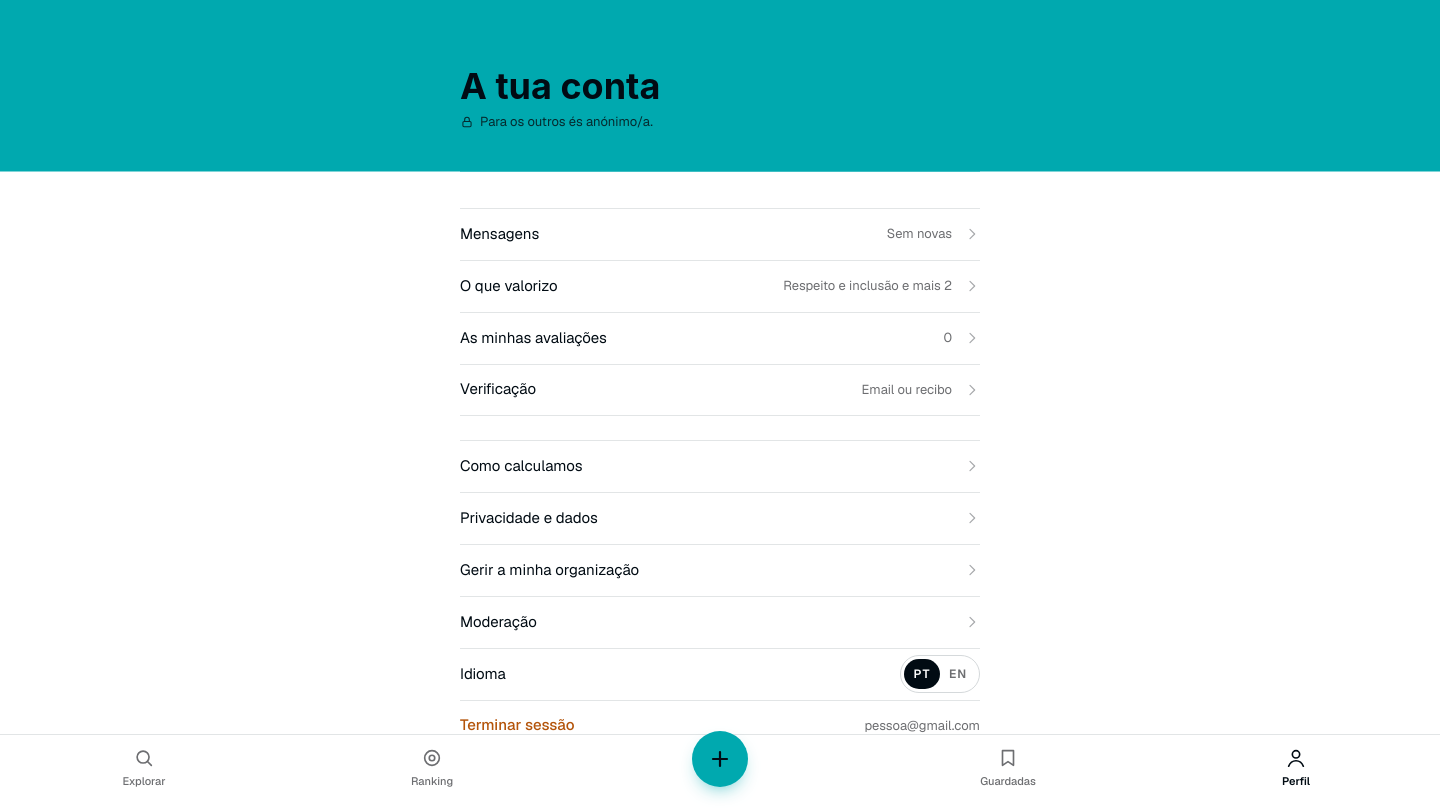
Perfil (mobile) › sem avaliações: diz que ainda não avaliou
Expected: the heading "A tua conta" is shown, [460,64,660,108]
Click the button "As minhas avaliações 0" at coordinates (533, 337), box [460,312,980,364]
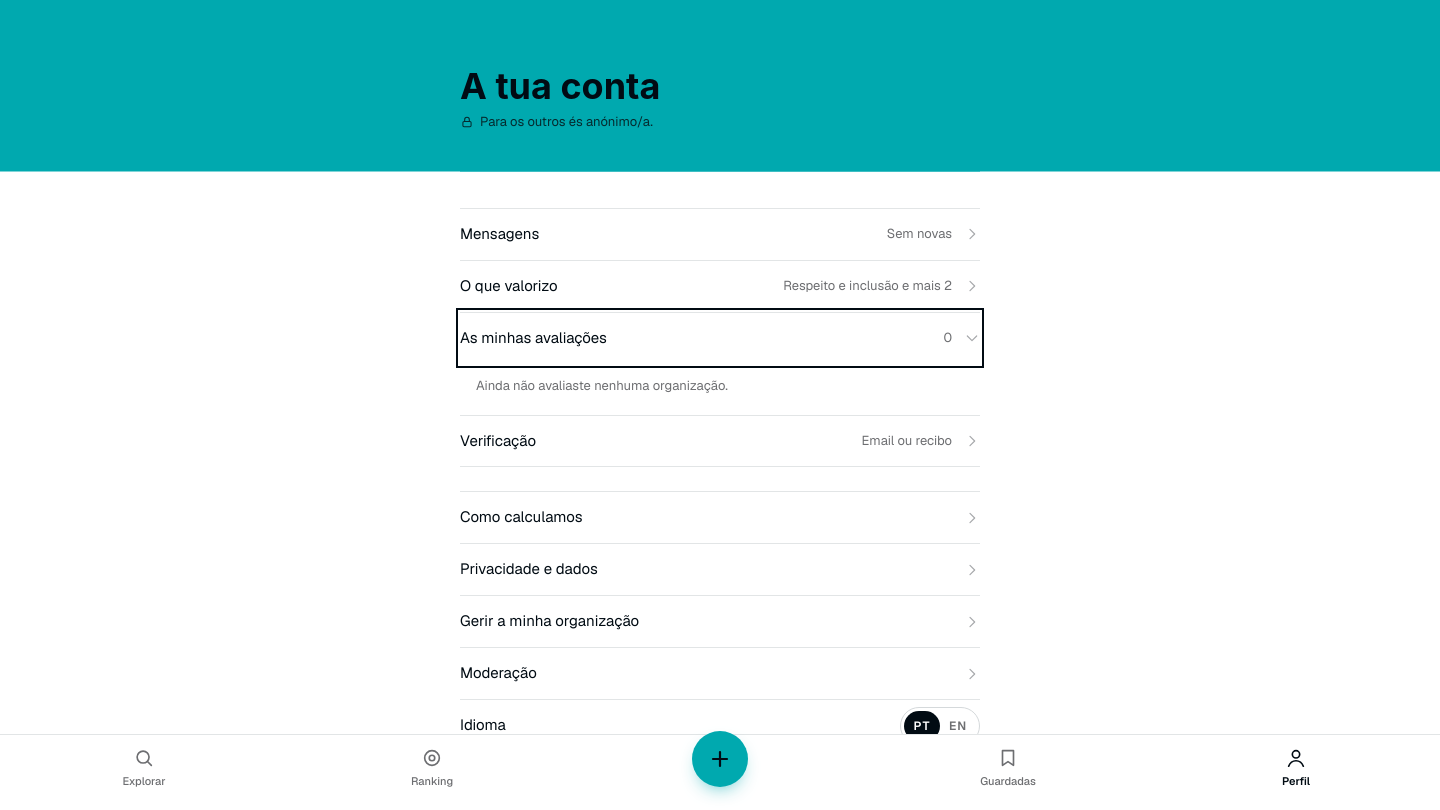
Expected: the text "Ainda não avaliaste nenhuma organização." is shown, [476,376,728,394]
